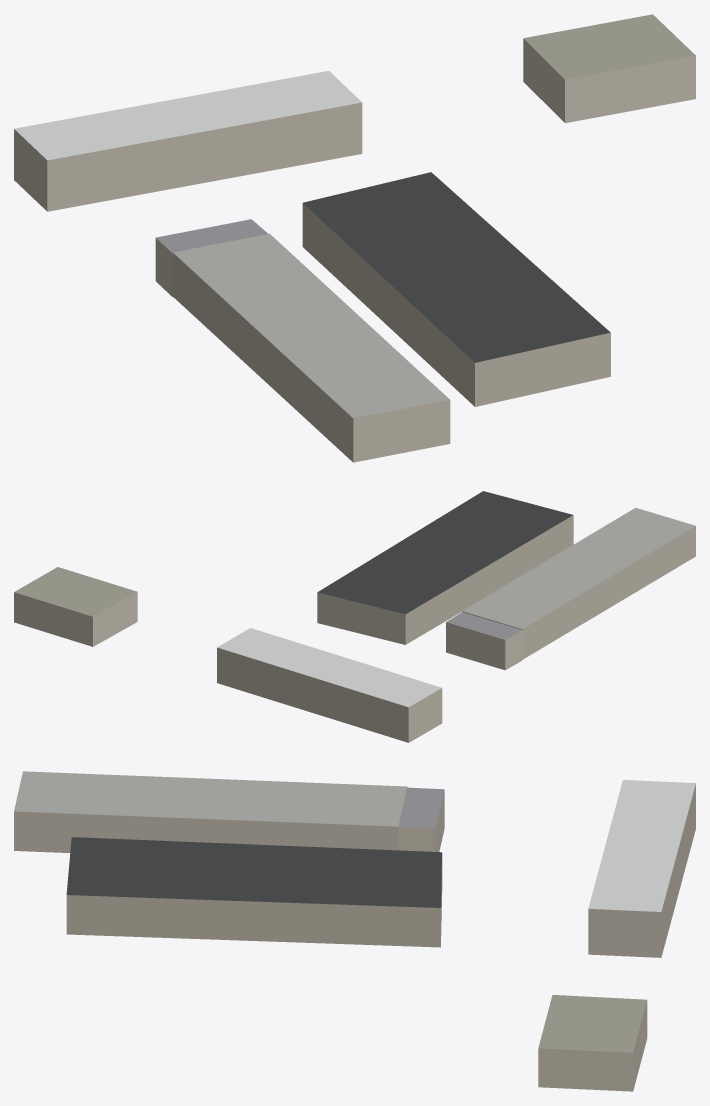
The picture shows the model from 3 angles, top to bottom: view 1: azimuth 30°, elevation 25°; view 2: azimuth 150°, elevation 25°; view 3: azimuth 270°, elevation 25°; orthographic projection. The views are drawn at different scales.
Visible parts, largest first — view 1: tuile; view 2: tuile; view 3: tuile.
Part boxes in pixels (left/top/right/bottom): tuile: left=14, top=14, right=695, bottom=462; tuile: left=14, top=491, right=695, bottom=742; tuile: left=14, top=771, right=695, bottom=1091.
Bounding box in the file's own units: 51.6 × 3.95 × 53.2.
